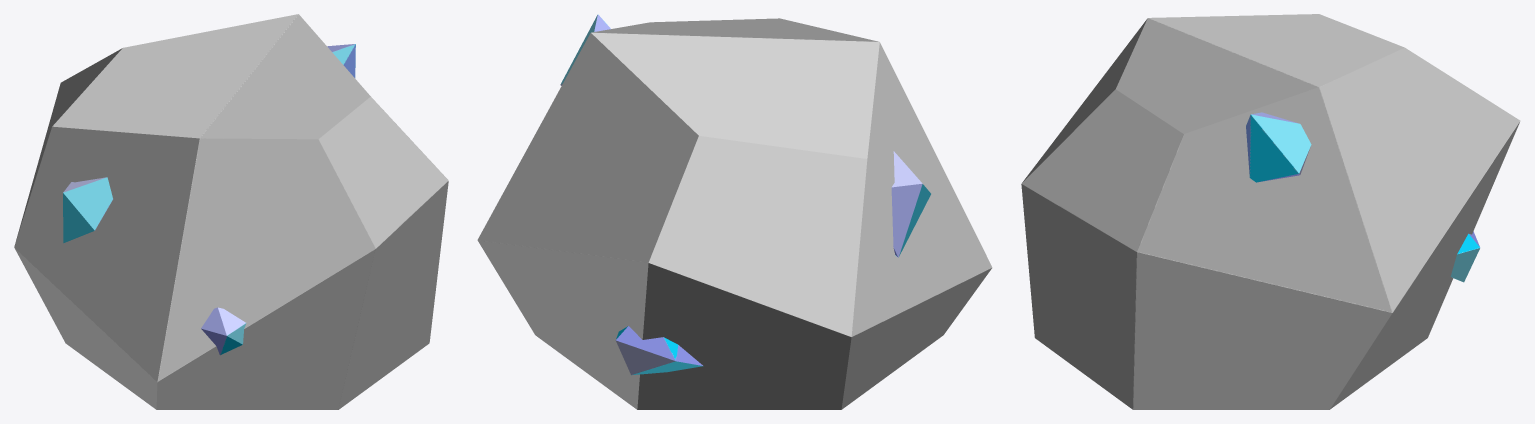
The model's file is minerioB-2.fbx.
3 renders of one model, left to right at view 1: azimuth 30°, elevation 25°; view 2: azimuth 150°, elevation 25°; view 3: azimuth 270°, elevation 25°, orthographic. The views are drawn at different scales.
Visible parts, largest first — view 1: minerioB-2; view 2: minerioB-2; view 3: minerioB-2.
Part boxes in pixels (x1,y1,x2,y2): minerioB-2: (14, 14, 448, 409); minerioB-2: (477, 14, 992, 409); minerioB-2: (1021, 14, 1520, 409).
Bounding box in the file's own units: 149 × 119 × 180.
